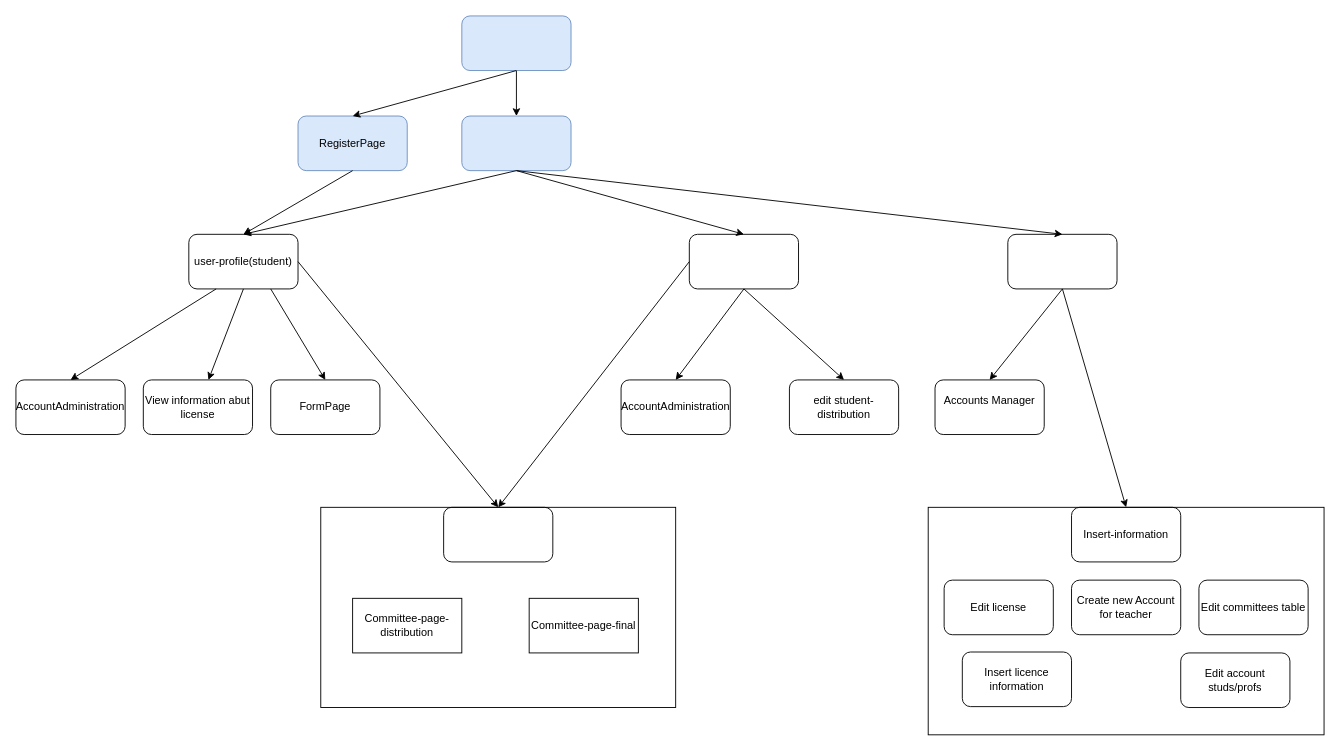
The diagram is 1340 pixels wide and 751 high, and some of its shapes have lost their labels. The shapes that lost their labels are listed below. From the top down, each one's centre as x and y in pixels, then its label:
pixel 516 43: MainPage
pixel 516 143: LoginPage
pixel 743 261: user-profile(teacher)
pixel 1062 261: Admin-profile
pixel 498 534: Table- committee
